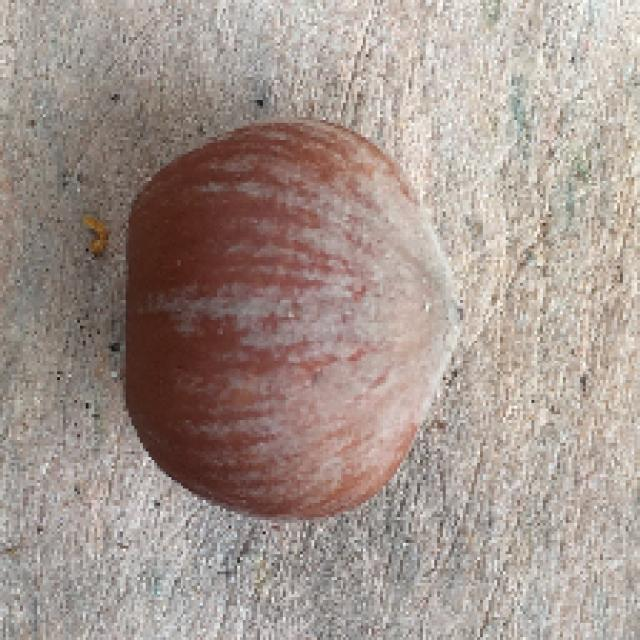qualityHazelnut: (116, 115, 465, 522)
